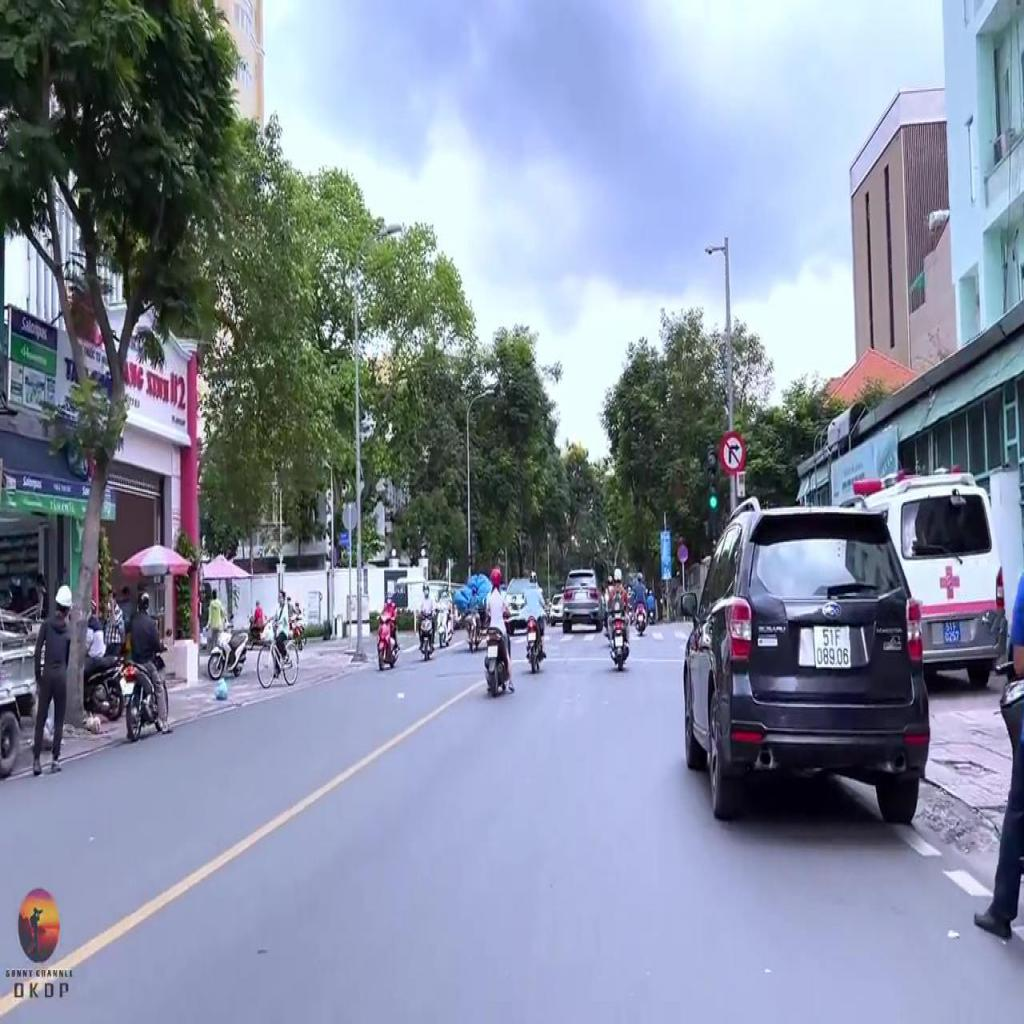cam_do_xe: (677, 545, 689, 563)
cam_re_phai: (720, 431, 746, 475)
